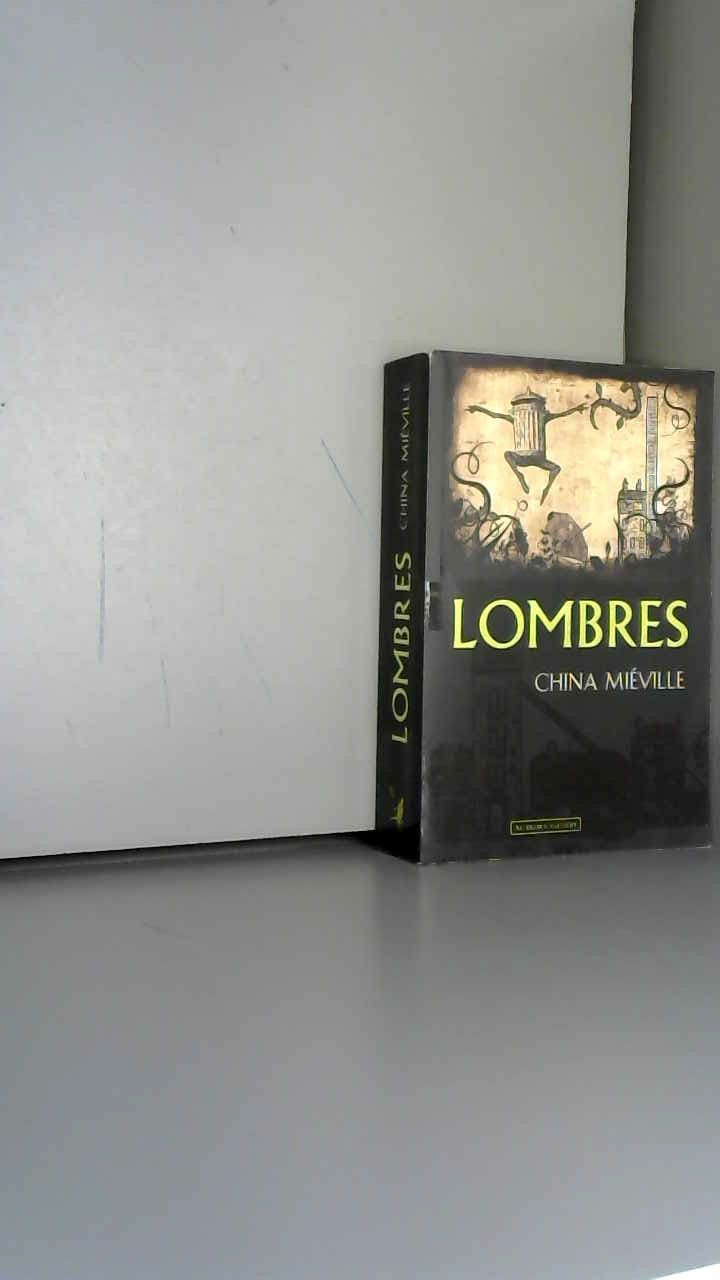book: (350, 320, 720, 882)
